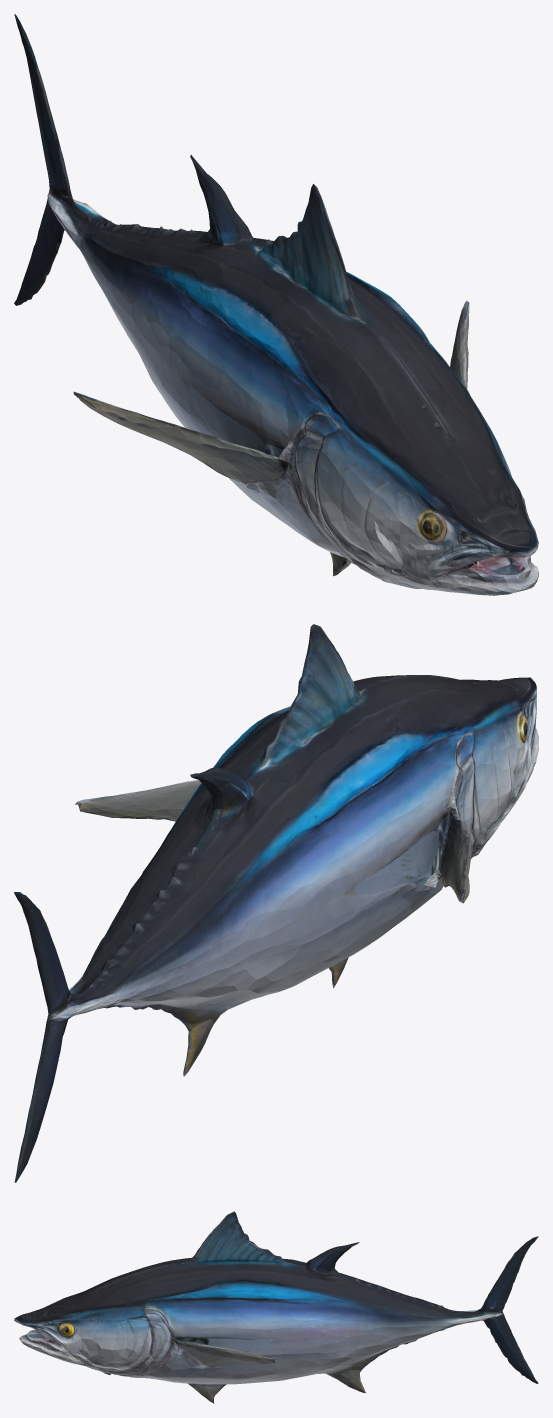
The model's file is Tuna_1121180616_texture.fbx.
3 renders of one model, top to bottom at view 1: azimuth 30°, elevation 25°; view 2: azimuth 150°, elevation 25°; view 3: azimuth 270°, elevation 25°, orthographic. The views are drawn at different scales.
Parts seen in each view (by area): view 1: temp; view 2: temp; view 3: temp.
Part boxes in pixels (left/top/right/bottom): temp: left=14, top=14, right=538, bottom=595; temp: left=14, top=624, right=538, bottom=1182; temp: left=14, top=1211, right=538, bottom=1403.
Bounding box in the file's own units: 87.19 × 80.78 × 200.
Materials: 1 (1 with a texture image).
